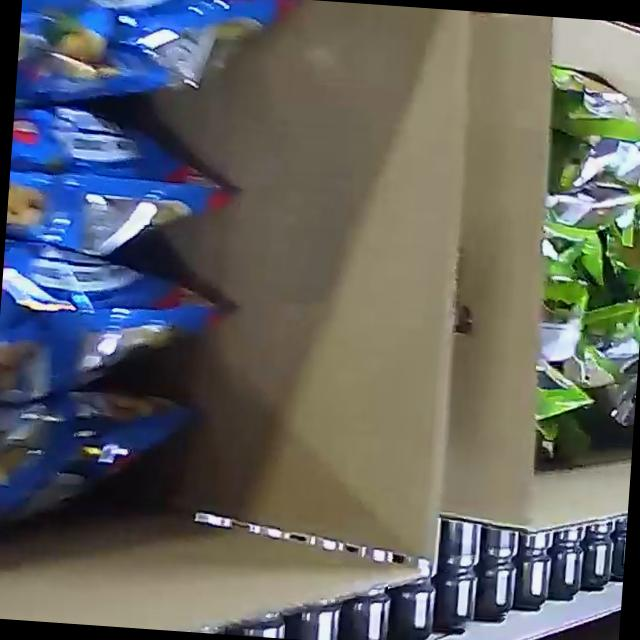paprika: (0, 0, 296, 581)
yogurt: (525, 63, 640, 453)
